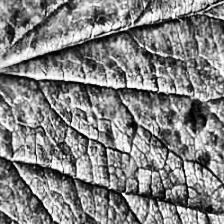Angular Leafspot: (7, 78, 224, 224)
